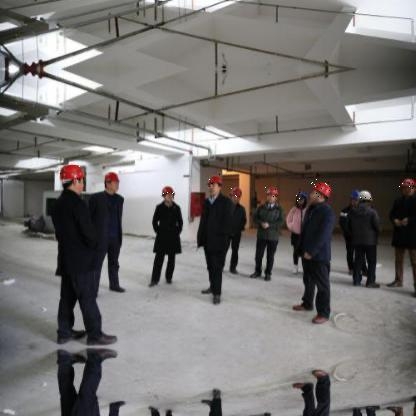safetyhelmet: (310, 178, 333, 200), (58, 166, 86, 184), (104, 170, 121, 186), (296, 190, 309, 208), (358, 190, 373, 204), (208, 174, 222, 188), (265, 184, 279, 198), (399, 178, 415, 190), (160, 184, 176, 196), (230, 186, 243, 200), (350, 190, 362, 204)
